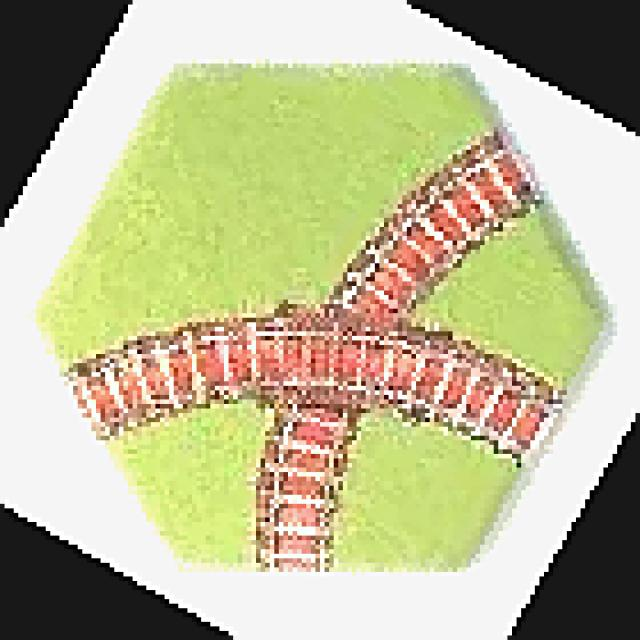7_1: (48, 64, 598, 578)
